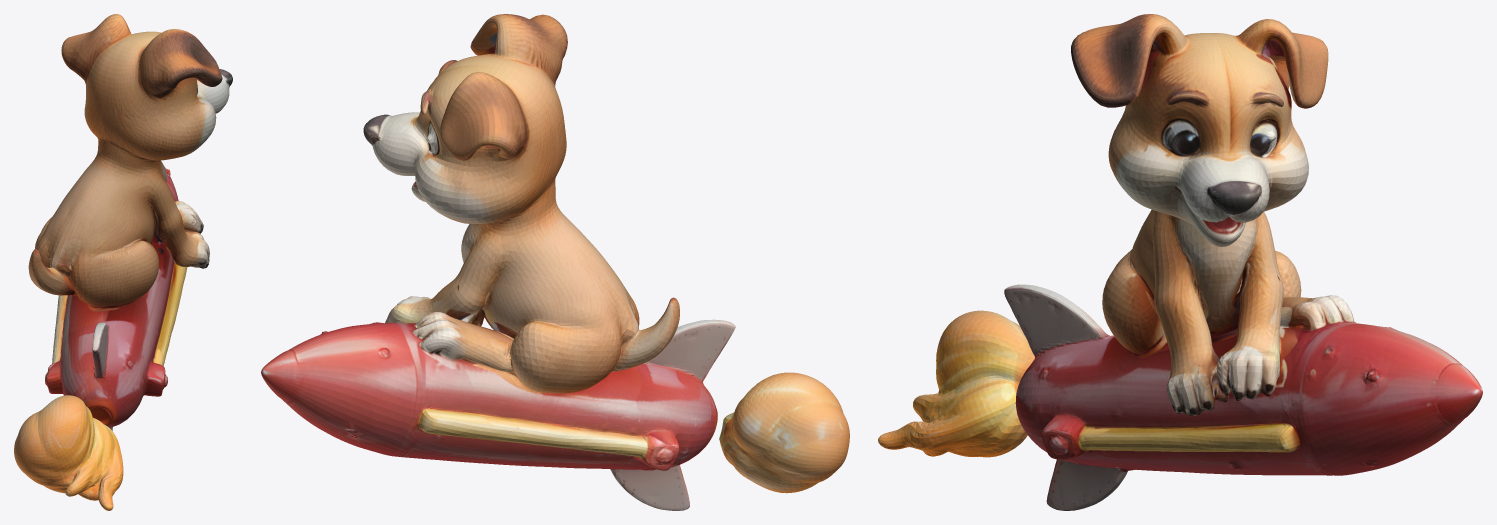
Rendered from tripo_convert_86903bb3-5c7c-4940-9203-0ec7f444e5f0.glb.
3 views of the same model, side by side, from view 1: azimuth 30°, elevation 25°; view 2: azimuth 150°, elevation 25°; view 3: azimuth 270°, elevation 25° (orthographic). The views are drawn at different scales.
Parts seen in each view (by area): view 1: tripo_node_86903bb3-5c7c-4940-9203-0ec7f444e5f0; view 2: tripo_node_86903bb3-5c7c-4940-9203-0ec7f444e5f0; view 3: tripo_node_86903bb3-5c7c-4940-9203-0ec7f444e5f0.
Part boxes in pixels (x1,y1,x2,y2): tripo_node_86903bb3-5c7c-4940-9203-0ec7f444e5f0: [14, 14, 232, 510]; tripo_node_86903bb3-5c7c-4940-9203-0ec7f444e5f0: [261, 14, 849, 510]; tripo_node_86903bb3-5c7c-4940-9203-0ec7f444e5f0: [878, 14, 1482, 510].
Size of the model in its own units: 0.7503 by 0.9448 by 0.9184.
1 material, 1 textured.
